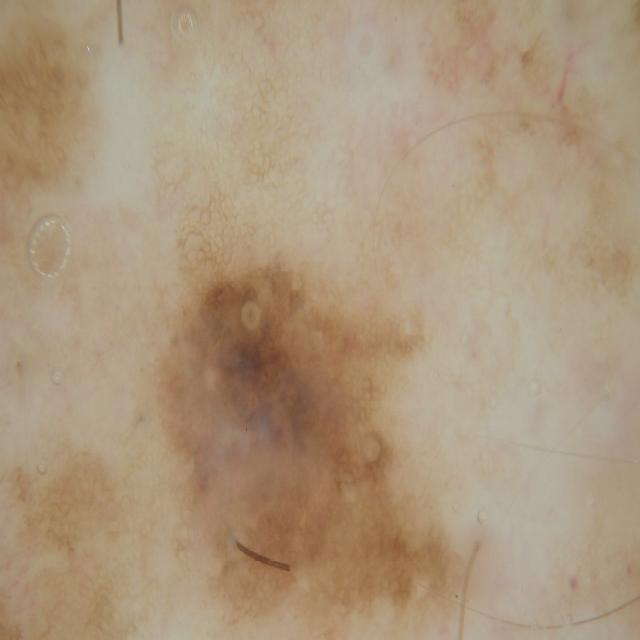Melanoma: (133, 173, 442, 613)
